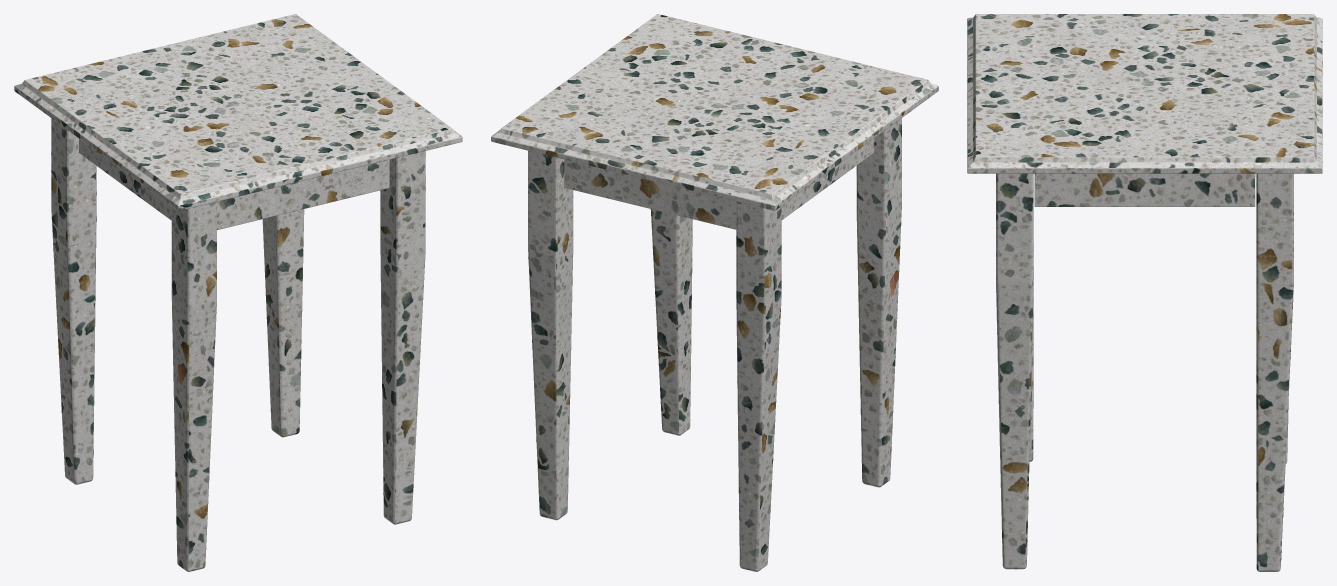
Rendered from Table_terazzo.gltf.
3 views of the same model, side by side, from view 1: azimuth 30°, elevation 25°; view 2: azimuth 150°, elevation 25°; view 3: azimuth 270°, elevation 25° (orthographic). The views are drawn at different scales.
Parts seen in each view (by area): view 1: 사이드 테이블; view 2: 사이드 테이블; view 3: 사이드 테이블.
Boxes of the visible parts, x1,y1,x2,y2 form: 사이드 테이블: (14,14,462,571); 사이드 테이블: (491,14,938,571); 사이드 테이블: (967,14,1322,571).
Bounding box in the file's own units: 0.6371 × 0.8462 × 0.6371.
Materials: 1 (1 with a texture image).
